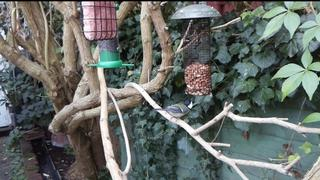great tit: (152, 98, 194, 123)
